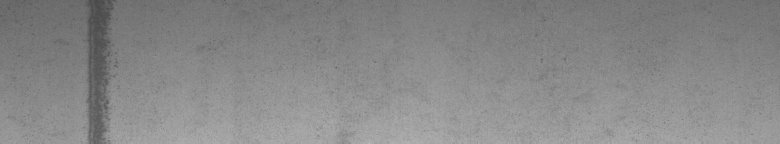hd: (81, 4, 118, 136)
